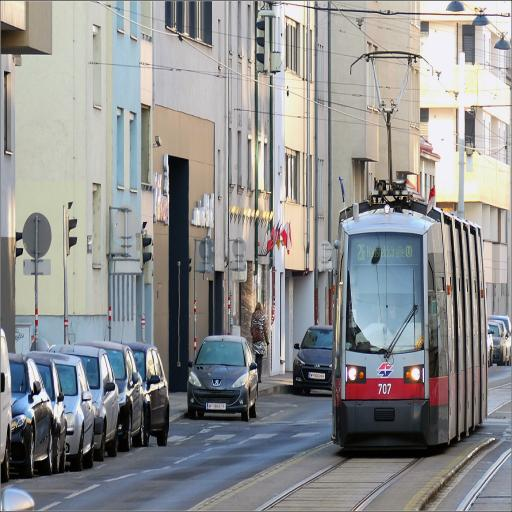ULF: (330, 188, 489, 455)
